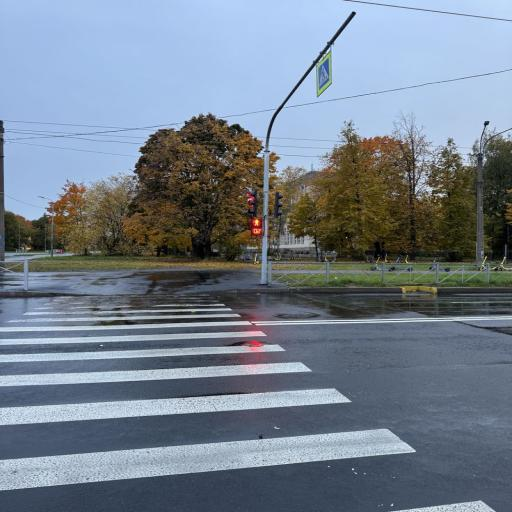closet: (0, 295, 350, 434)
phone: (260, 12, 356, 284), (476, 152, 484, 264), (0, 121, 4, 261), (51, 204, 53, 256)
ramp: (0, 293, 511, 511)
table: (251, 217, 263, 236), (248, 191, 257, 216), (274, 193, 283, 218)
